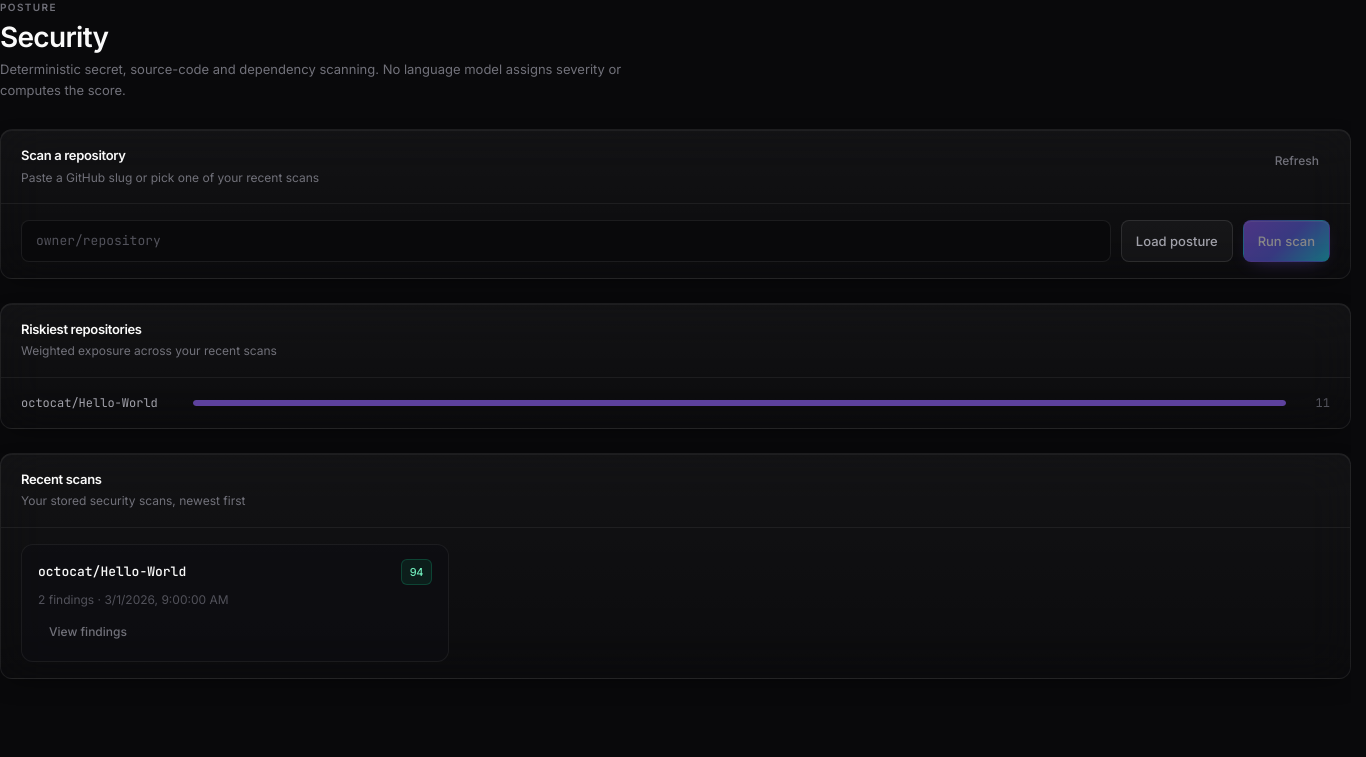
Test case: SecurityPage › partial coverage › surfaces files that could not be read
The image size is (1366, 757).
Type "octocat/Hello-World" into the field labelled "repository" at point(566, 241), box top-left (21, 220), bottom-right (1111, 262)
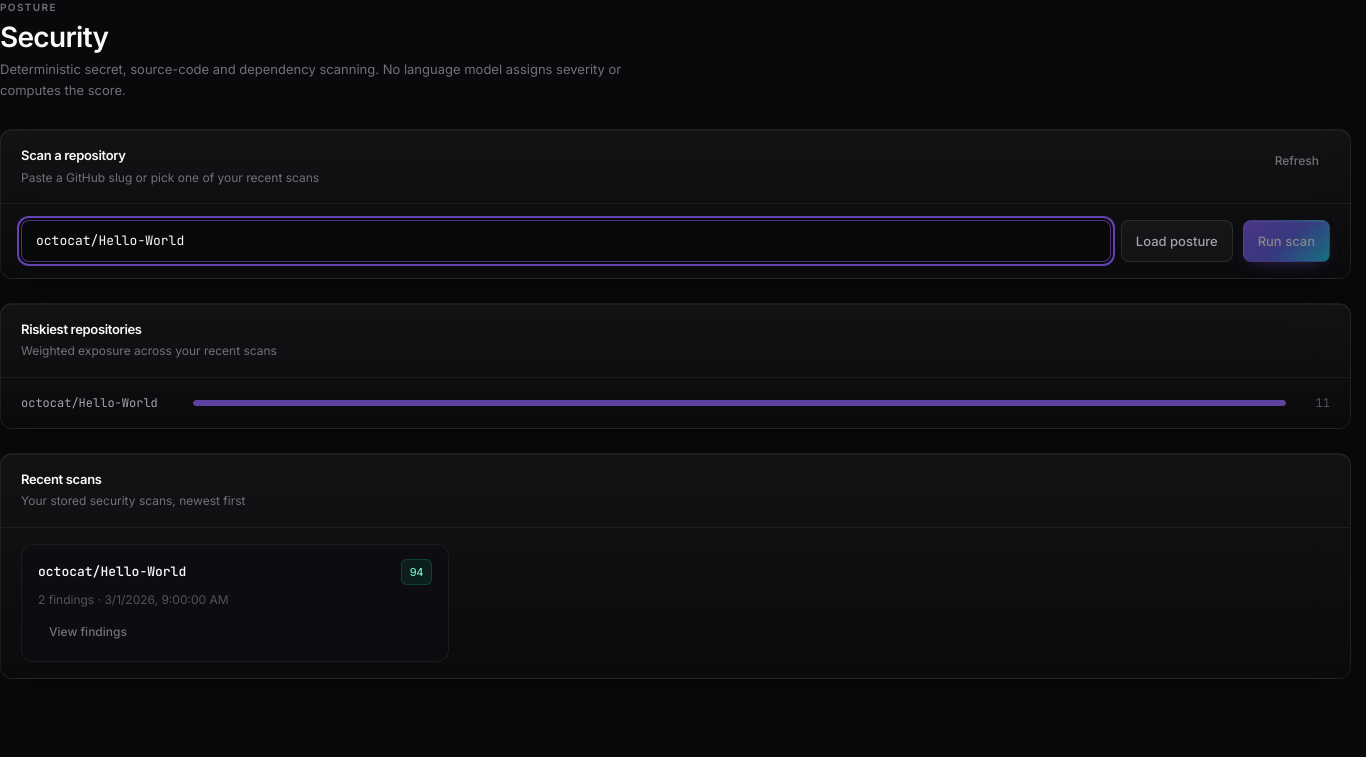
Click the button "Load posture" at point(1177, 241), box top-left (1121, 220), bottom-right (1233, 262)
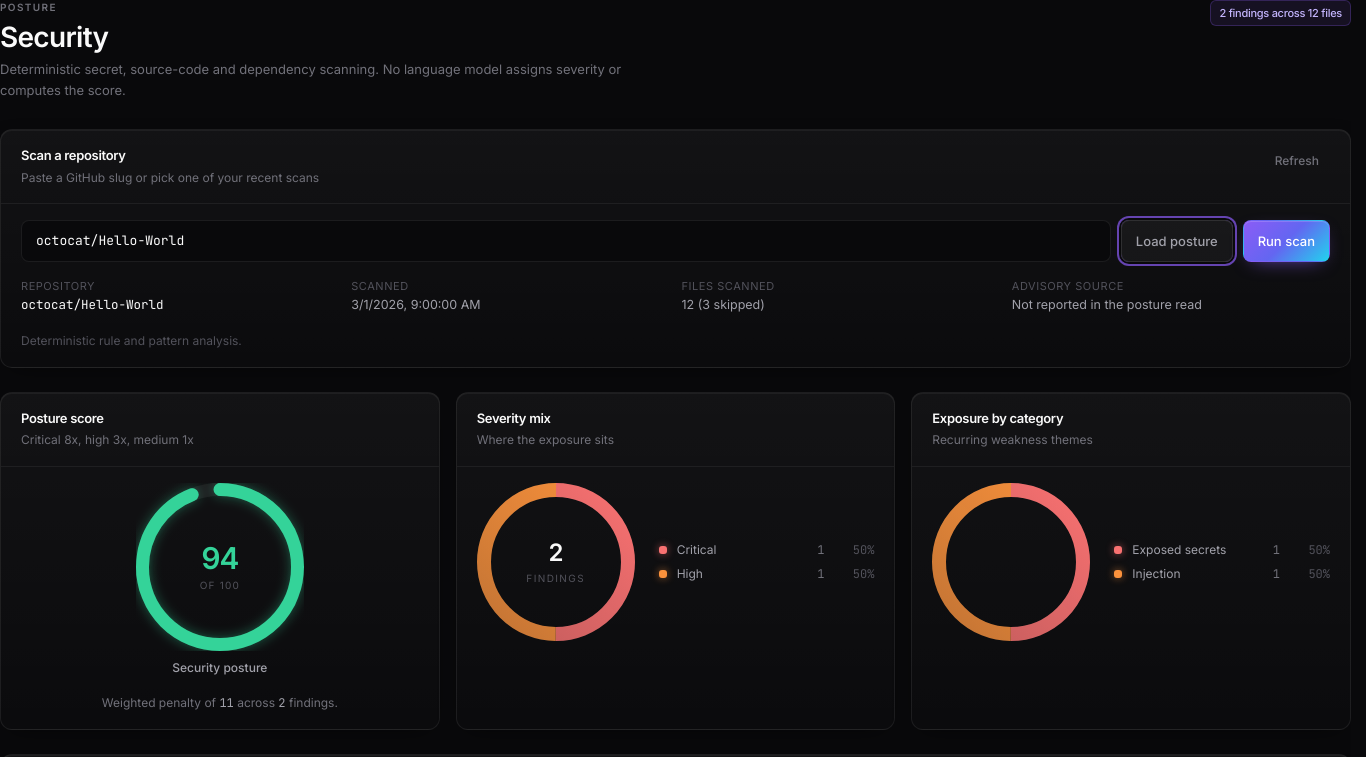
Click the button "Run scan" at point(1286, 241), box top-left (1243, 220), bottom-right (1330, 262)
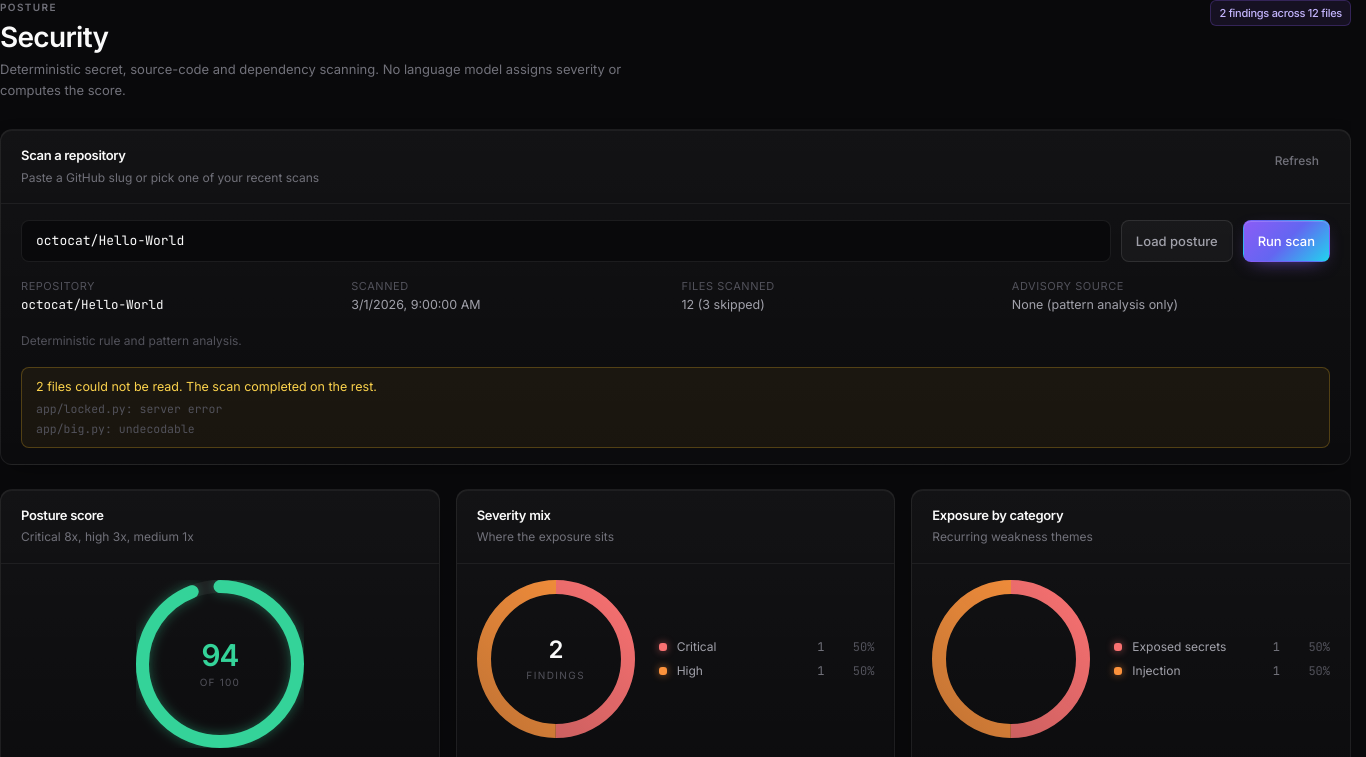
Now the message shows "2 files could not be read", box top-left (21, 366), bottom-right (1330, 448)
Now the list item "app/locked.py: server error" is shown, box top-left (36, 401), bottom-right (222, 416)
